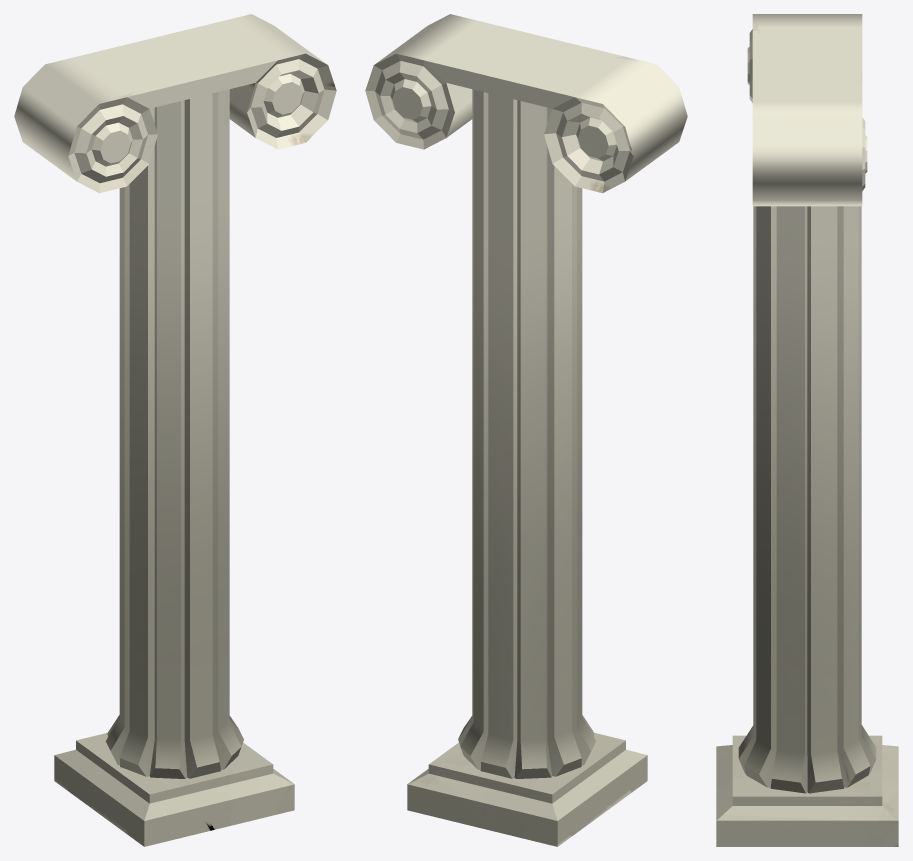
Rendered from Pillar.fbx.
The picture shows the model from 3 angles, left to right: view 1: azimuth 30°, elevation 25°; view 2: azimuth 150°, elevation 25°; view 3: azimuth 270°, elevation 25°; orthographic projection.
Parts seen in each view (by area): view 1: Pillar_Boxes_StudyTable_Pillar; view 2: Pillar_Boxes_StudyTable_Pillar; view 3: Pillar_Boxes_StudyTable_Pillar.
Part boxes in pixels (left/top/right/bottom): Pillar_Boxes_StudyTable_Pillar: left=14, top=14, right=336, bottom=846; Pillar_Boxes_StudyTable_Pillar: left=365, top=14, right=687, bottom=846; Pillar_Boxes_StudyTable_Pillar: left=716, top=14, right=898, bottom=846.
Size of the model in its own units: 0.0191 by 0.0111 by 0.05.
